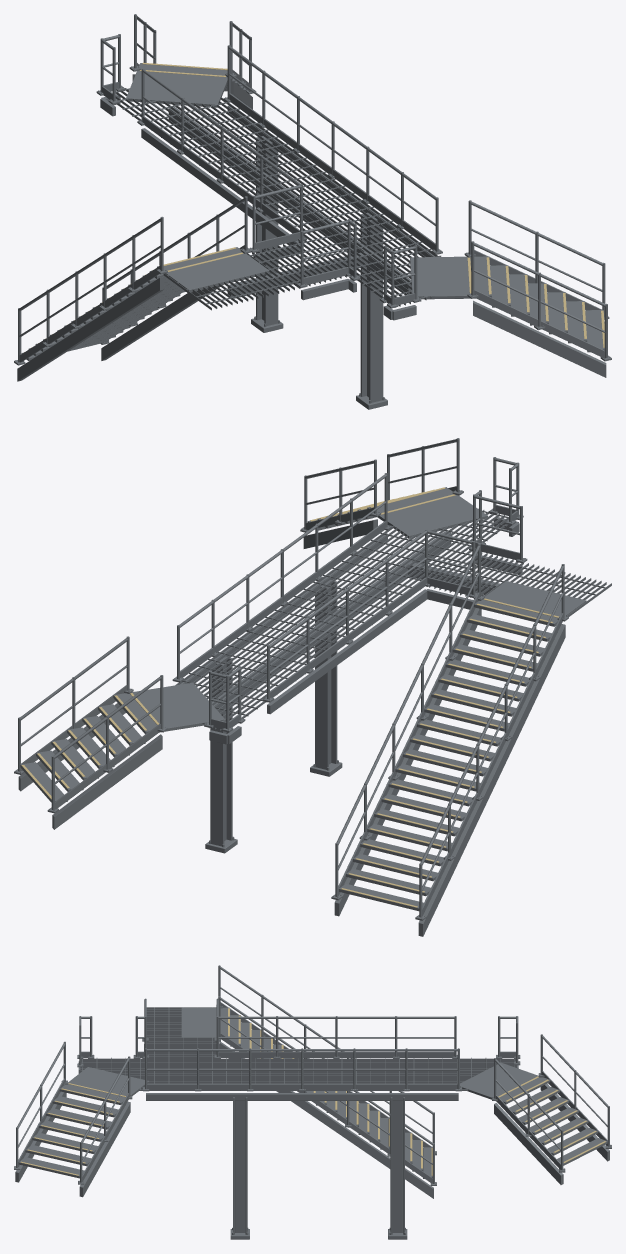
The model's file is BO_E02_OperationsDeck.fbx.
The picture shows the model from 3 angles, top to bottom: view 1: azimuth 30°, elevation 25°; view 2: azimuth 150°, elevation 25°; view 3: azimuth 270°, elevation 25°; orthographic projection. The views are drawn at different scales.
Parts seen in each view (by area): view 1: BO_E02_OperationsDeck; view 2: BO_E02_OperationsDeck; view 3: BO_E02_OperationsDeck.
Boxes of the visible parts, x1=… form: BO_E02_OperationsDeck: x1=14, y1=14, x2=611, y2=409; BO_E02_OperationsDeck: x1=14, y1=438, x2=611, y2=936; BO_E02_OperationsDeck: x1=14, y1=965, x2=611, y2=1239.
Bounding box in the file's own units: 688 × 494 × 1328.
